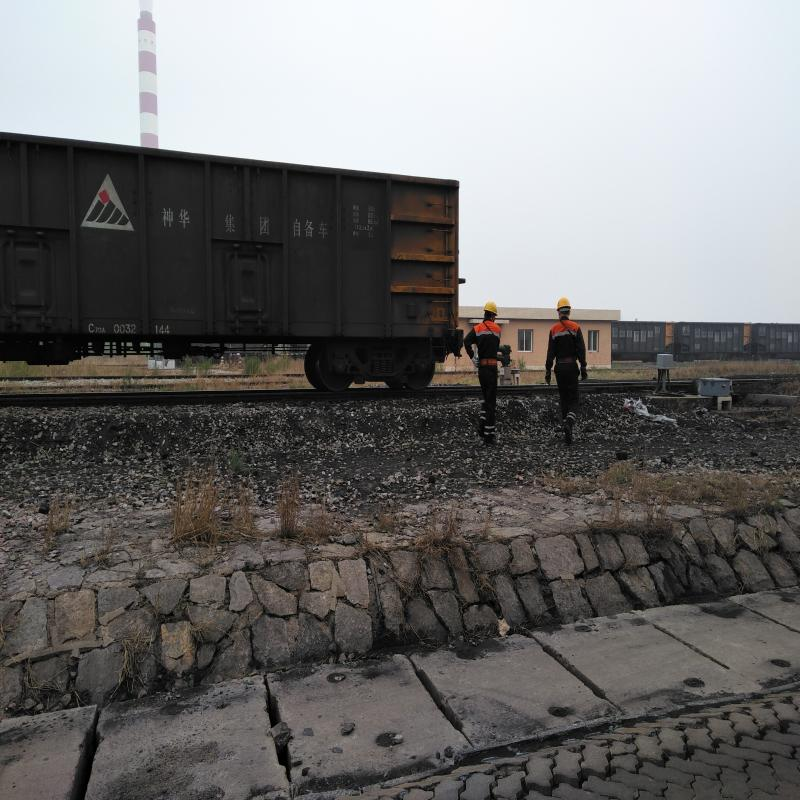train: (231, 140, 457, 395)
